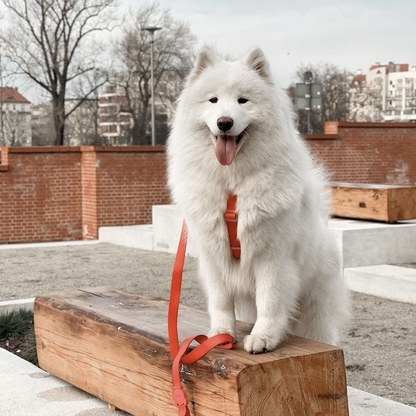samoyed: (160, 40, 361, 357)
